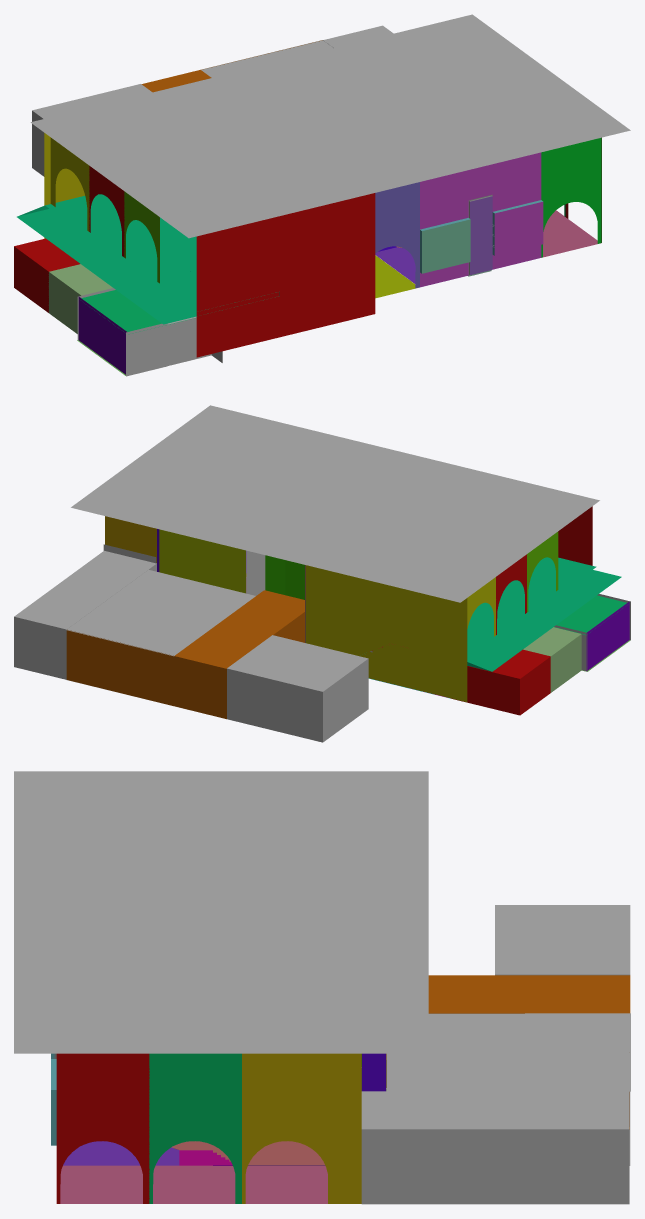
The model's file is Disco.fbx.
3 renders of one model, top to bottom at view 1: azimuth 30°, elevation 25°; view 2: azimuth 150°, elevation 25°; view 3: azimuth 270°, elevation 25°, orthographic. The views are drawn at different scales.
Parts seen in each view (by area): view 1: Ceiling, Wall_3, Bar_Wall, TopFloor1, pPlane2 (×5), pCube2 (×3), Wall_5, pCube3, Wall_7, Ceiling1, R_Floor, Help_Plane2 (+5 smaller); view 2: Ceiling, Wall_4, Kitchen1, pCube3, Help_Plane2, TopFloor1, Kitchen, pCube2 (×2), Front_Wall, pPlane2 (×3), Wall_5, Wall_3 (+4 smaller); view 3: Ceiling, pPlane2 (×3), Kitchen, Help_Plane2, pCube3, R_Floor, Kitchen1, Dance_Floor, Bar_Floor, Help_Plane4, Stairs.
Part boxes in pixels (<box>): Ceiling: <box>30,14,630,238</box>; Wall_3: <box>196,193,375,357</box>; Bar_Wall: <box>420,152,543,287</box>; TopFloor1: <box>17,194,279,324</box>; pPlane2 (×5): <box>50,137,601,288</box>; pCube2 (×3): <box>14,238,211,365</box>; Wall_5: <box>78,296,126,374</box>; pCube3: <box>32,84,152,176</box>; Wall_7: <box>126,323,167,376</box>; Ceiling1: <box>81,290,196,334</box>; R_Floor: <box>542,210,600,257</box>; Help_Plane2: <box>201,40,333,77</box>; Ceiling: <box>71,405,599,602</box>; Wall_4: <box>305,565,467,701</box>; Kitchen1: <box>66,590,304,719</box>; pCube3: <box>227,635,368,742</box>; Help_Plane2: <box>66,569,255,656</box>; TopFloor1: <box>467,557,621,671</box>; Kitchen: <box>14,550,156,679</box>; pCube2 (×2): <box>450,627,581,715</box>; Front_Wall: <box>159,529,245,593</box>; pPlane2 (×3): <box>467,531,558,636</box>; Wall_5: <box>586,601,629,671</box>; Wall_3: <box>558,506,592,565</box>; Ceiling: <box>14,771,428,1053</box>; pPlane2 (×3): <box>56,1053,361,1203</box>; Kitchen: <box>361,1091,629,1204</box>; Help_Plane2: <box>386,1013,630,1091</box>; pCube3: <box>495,905,630,975</box>; R_Floor: <box>60,1165,327,1203</box>; Kitchen1: <box>386,975,630,1129</box>; Dance_Floor: <box>171,1141,325,1165</box>; Bar_Floor: <box>63,1141,179,1165</box>; Help_Plane4: <box>362,1053,385,1091</box>; Stairs: <box>179,1150,232,1165</box>.
Bounding box in the file's own units: 66.13 × 17.57 × 55.03.
